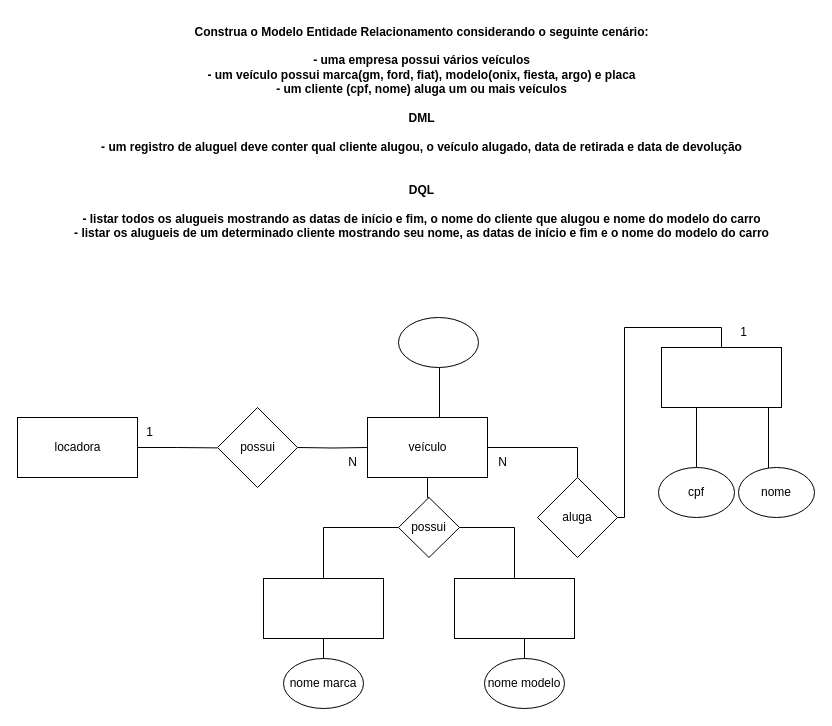
The diagram is 832 pixels wide and 726 high, and some of its shapes have lost their labels. Here are the shapes that lost their labels. From the top down, the box of each, then its label:
(398, 316, 478, 368): placa
(660, 346, 782, 408): cliente
(262, 578, 384, 638): marca
(454, 578, 574, 638): modelo
